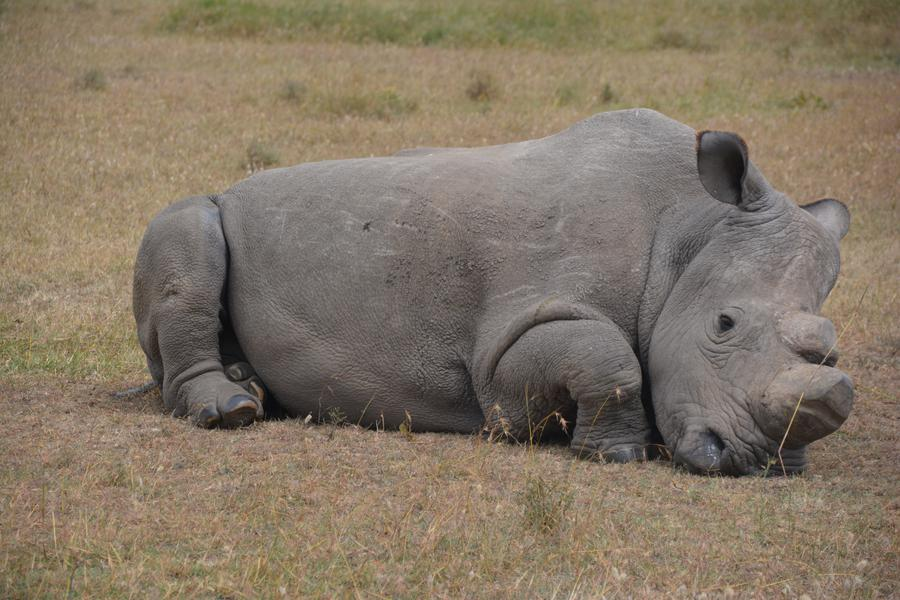rhino: (156, 119, 815, 464)
